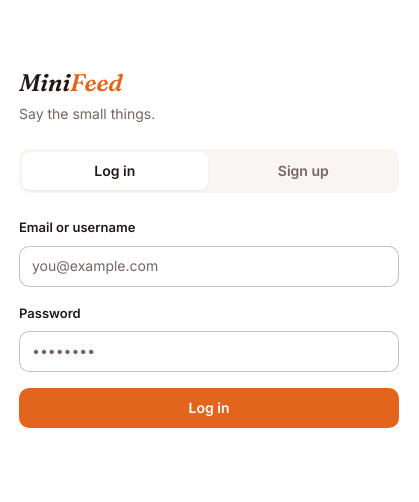
it: AuthPage › maps 409 conflict to an inline field error during signup
The width and height of the screenshot is (419, 502).
Click the tab "Sign up". click: [303, 171]
box: [210,152,396,190]
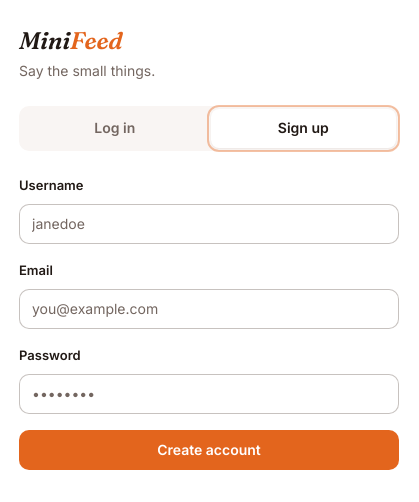
Type "newuser" into the field labelled "Username". click: [209, 224]
box: [19,204,399,244]
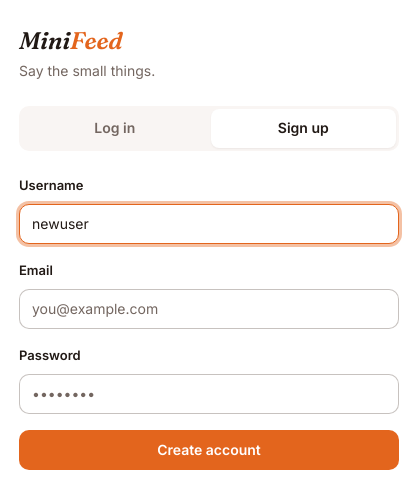
Type "taken@example.com" into the field labelled "Email". click: [209, 309]
box: [19,289,399,329]
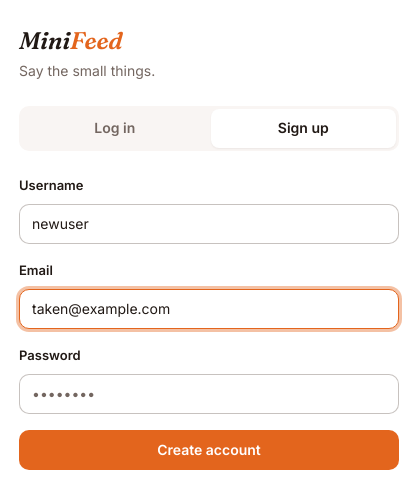
Type "secret123" into the password field labelled "Password". click: [209, 394]
box: [19,374,399,414]
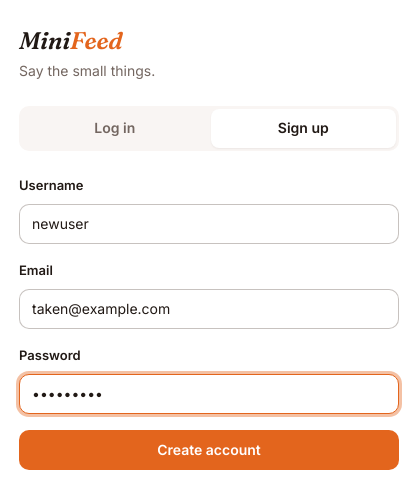
Click the button "Create account". click: [209, 450]
box: [19,430,399,470]
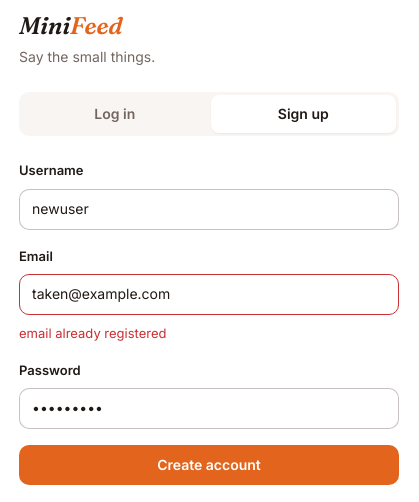
Result: the text "email already registered" is shown at [19,325,166,341]
